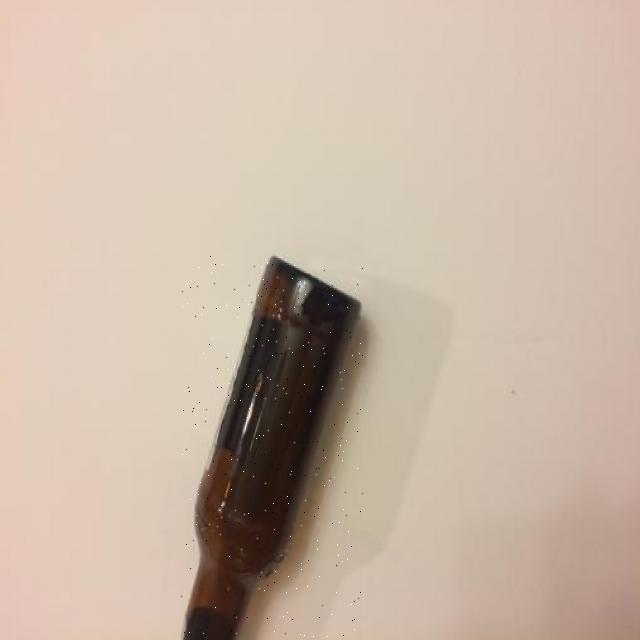glass: (182, 255, 363, 640)
